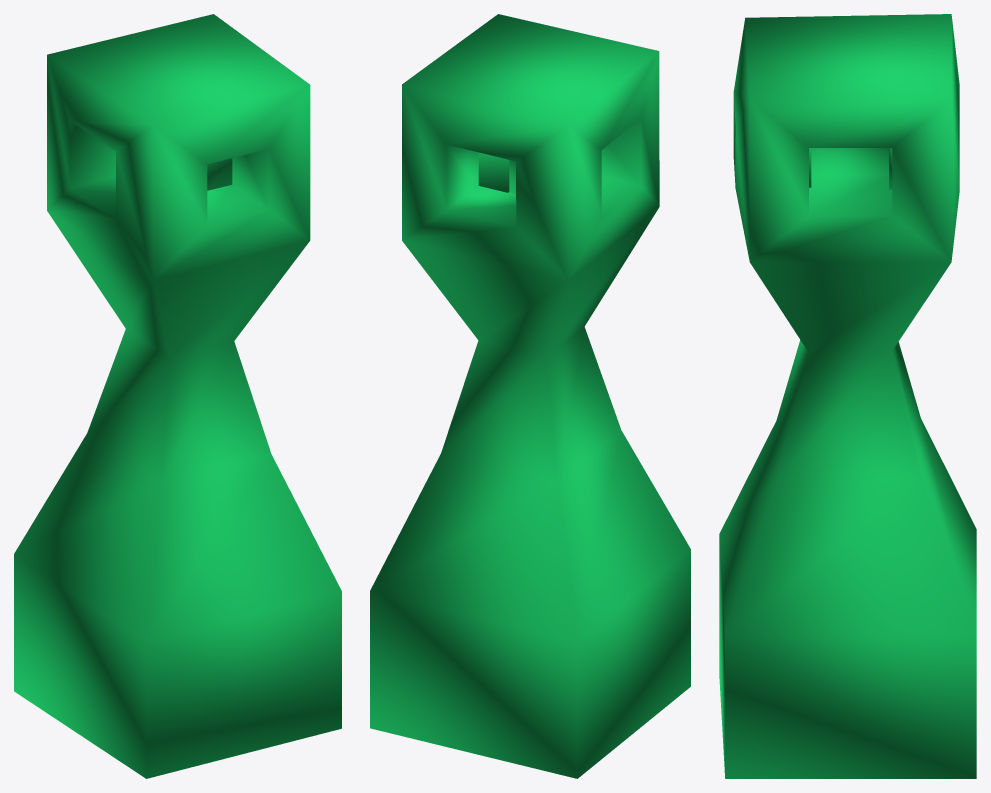
3 renders of one model, left to right at view 1: azimuth 30°, elevation 25°; view 2: azimuth 150°, elevation 25°; view 3: azimuth 270°, elevation 25°, orthographic. The views are drawn at different scales.
Parts seen in each view (by area): view 1: Cube; view 2: Cube; view 3: Cube.
Part boxes in pixels (bbox=[...]): Cube: bbox=[14, 14, 341, 778]; Cube: bbox=[370, 14, 690, 778]; Cube: bbox=[719, 14, 976, 778].
Size of the model in its own units: 138 by 405 by 141.
